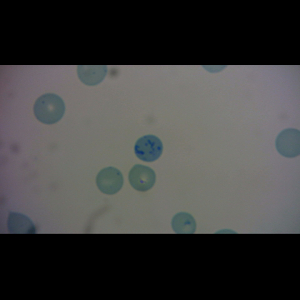aggregate reticulocyte: (133, 134, 164, 163)
erythrocyte: (127, 163, 157, 193), (275, 126, 300, 160), (170, 211, 197, 234)
punctate reticulocyte: (32, 92, 66, 126), (95, 165, 125, 196)
